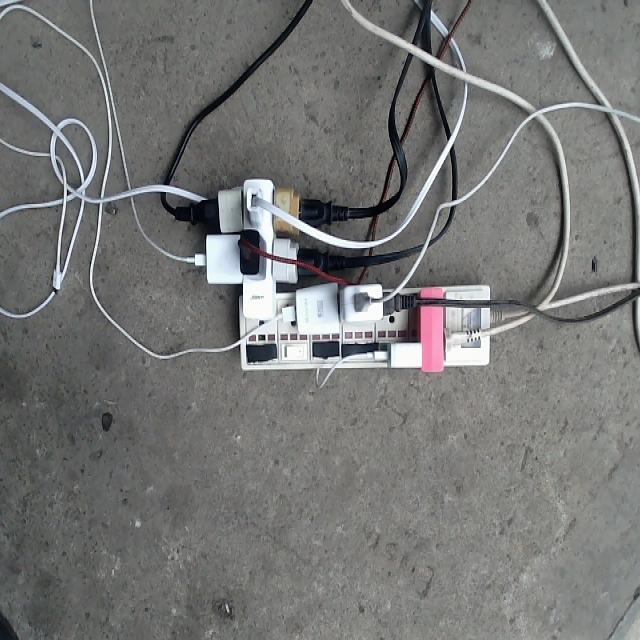-: (185, 171, 492, 372)
